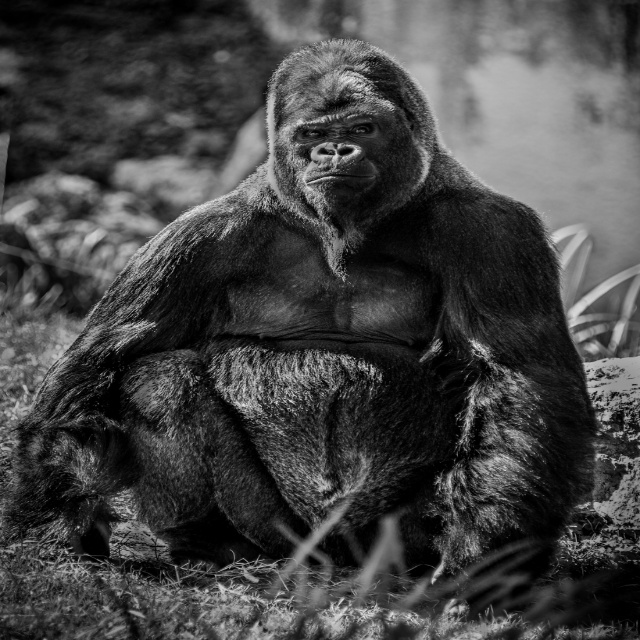Monkey: (3, 38, 598, 591)
